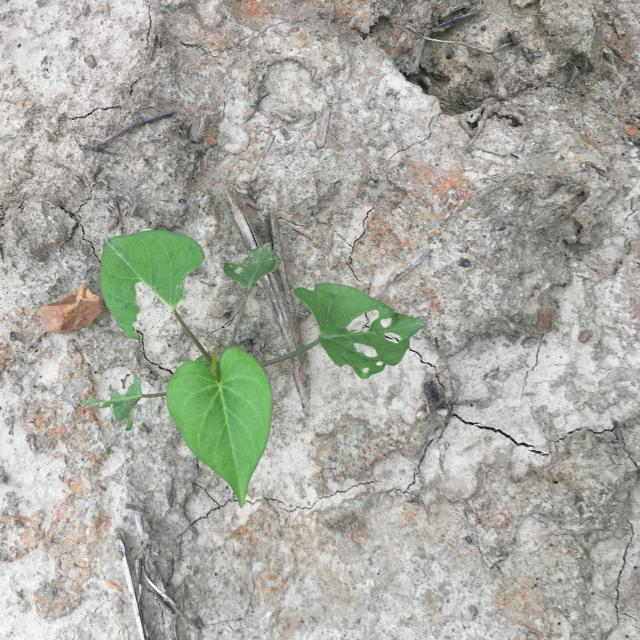MorningGlory: (80, 230, 430, 508)
